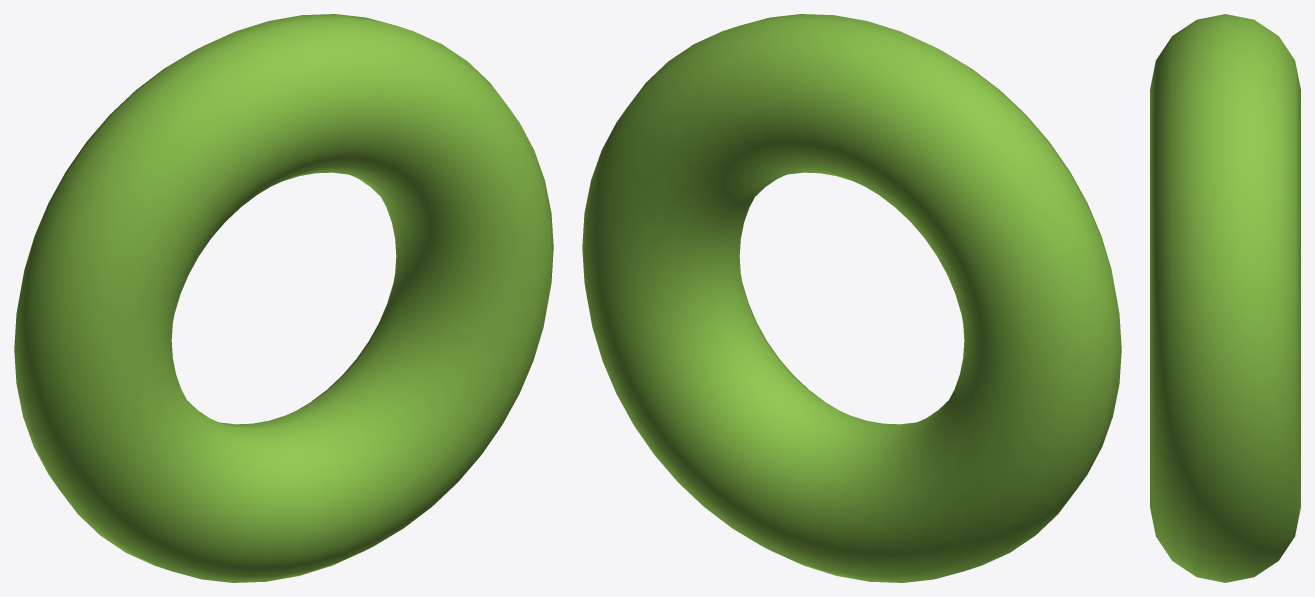
Rendered from party-torus.glb.
The picture shows the model from 3 angles, left to right: view 1: azimuth 30°, elevation 25°; view 2: azimuth 150°, elevation 25°; view 3: azimuth 270°, elevation 25°; orthographic projection. The views are drawn at different scales.
Visible parts, largest first — view 1: Party Ring; view 2: Party Ring; view 3: Party Ring.
Part boxes in pixels (x1,y1,x2,y2): Party Ring: [14, 14, 553, 582]; Party Ring: [582, 14, 1121, 582]; Party Ring: [1150, 14, 1300, 582].
Size of the model in its own units: 1.36 by 1.36 by 0.36.
